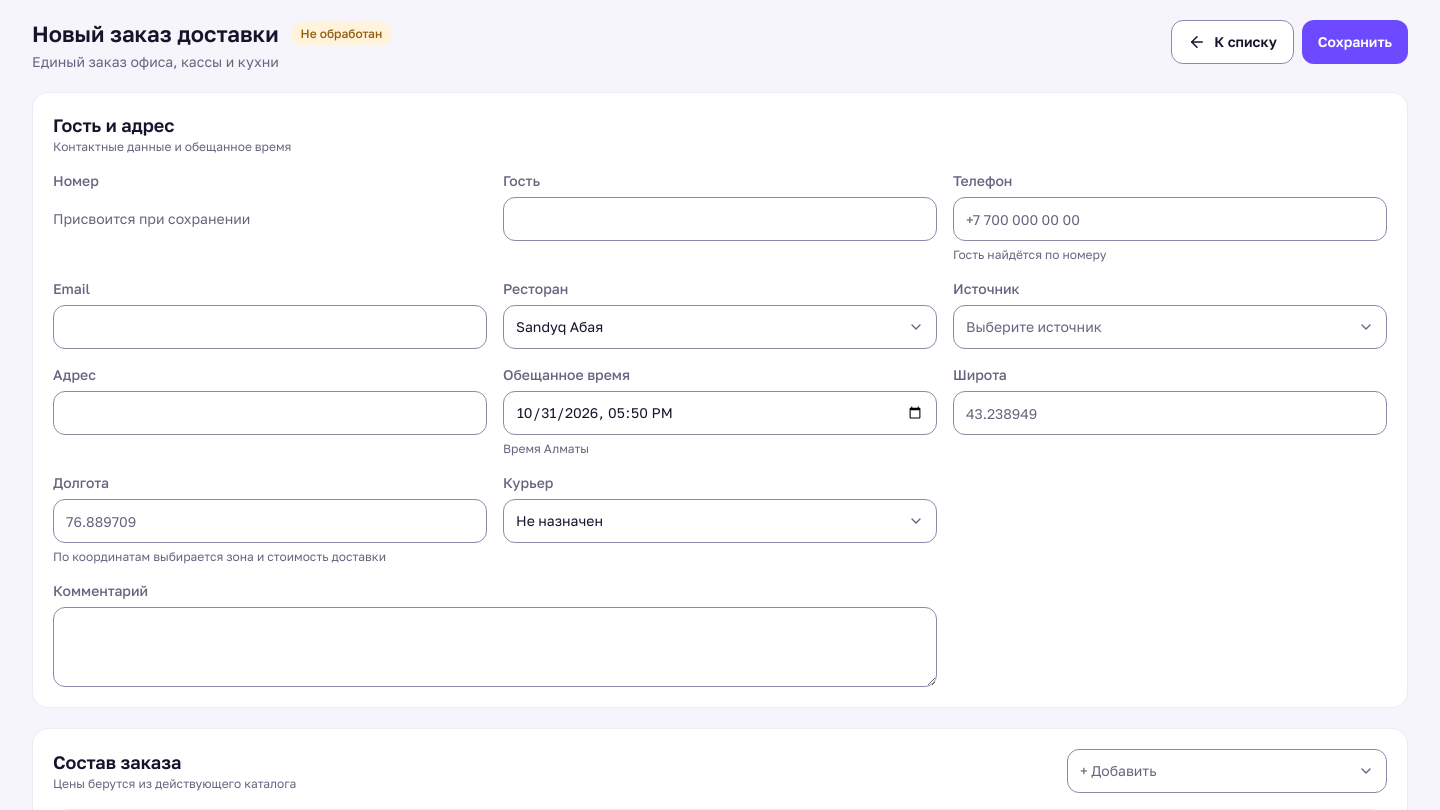
Test: order card: size and modifiers, masked phone, courier (W2-DLV-05) › «+ Добавить» without a search asks to type instead of «Ничего не найдено»
Click the dropdown labelled "Добавить" at (1118, 770), box [1067, 749, 1387, 793]
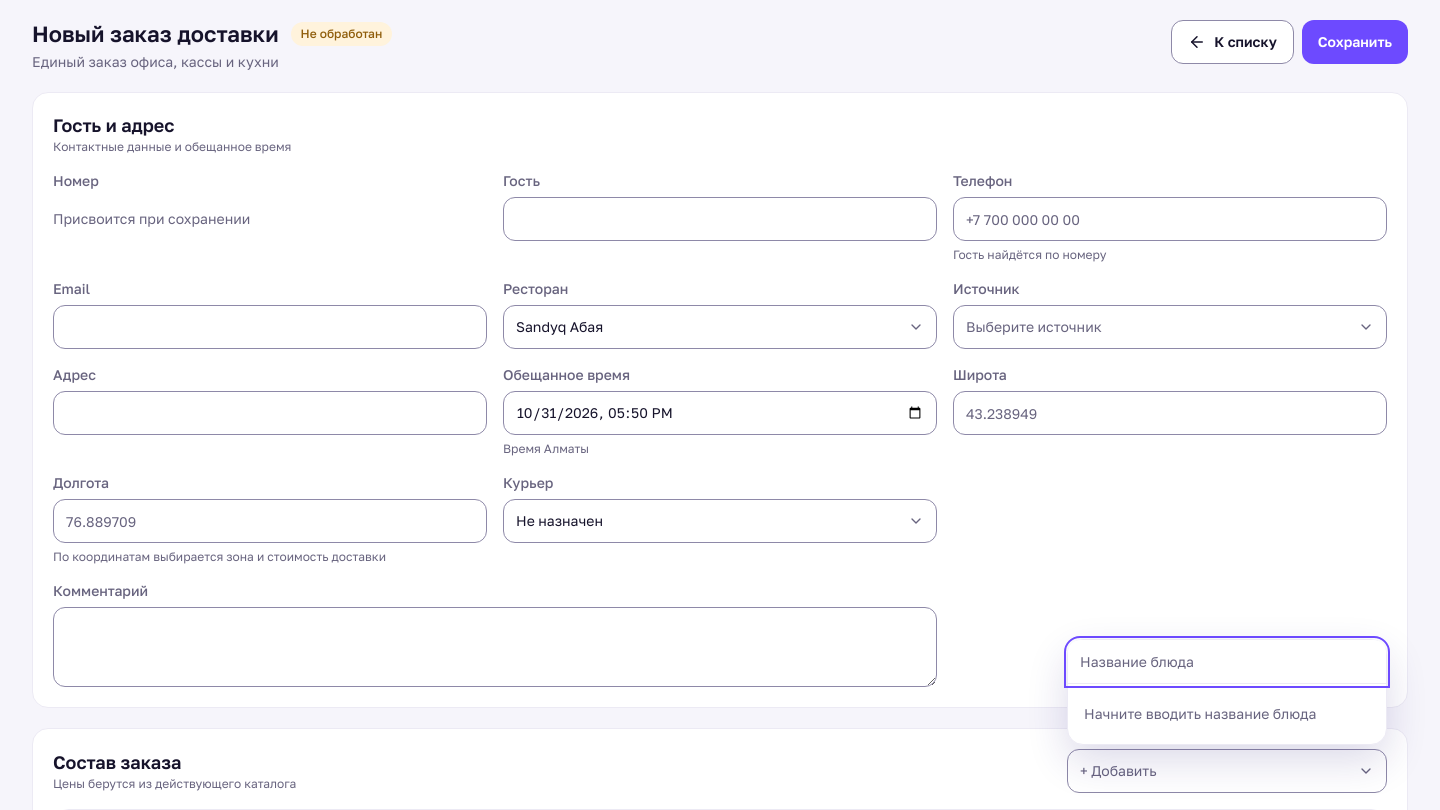
Check: the text "Начните вводить название блюда" is shown, box [1084, 705, 1316, 722]
